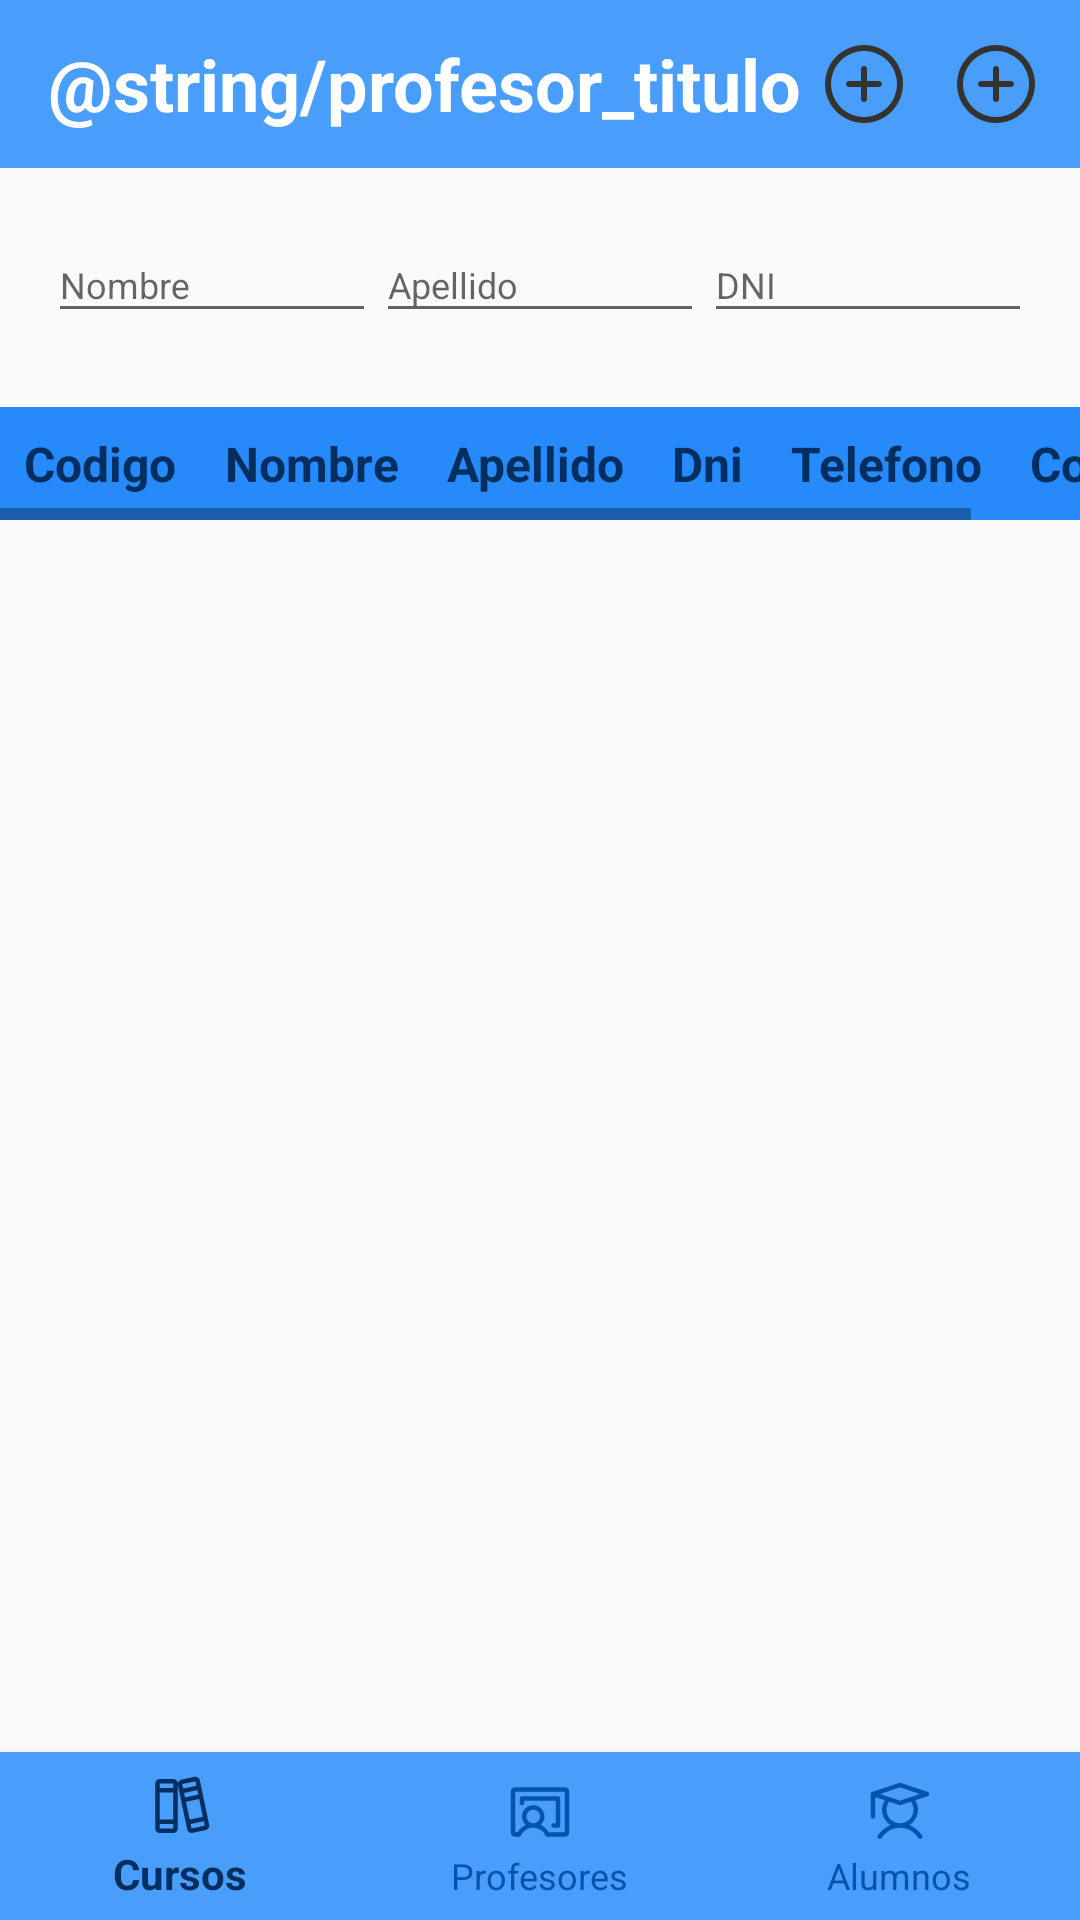

Locate icon controls on the screen. Image size 1080x1920, boxes as (x1,y1,x2,y2).
pluscircle: (825,45,903,123)
